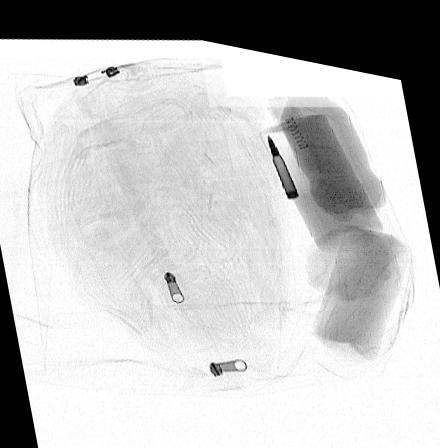Bullet: (268, 123, 299, 186)
